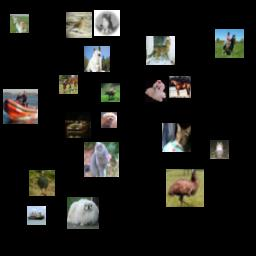bird: (166, 169, 204, 207), (29, 170, 55, 196), (66, 12, 92, 38)
cat: (84, 142, 119, 177), (162, 123, 191, 152), (146, 36, 175, 65), (94, 10, 120, 36)
deer: (10, 14, 29, 33), (101, 83, 120, 102)
dog: (67, 197, 99, 229), (145, 80, 167, 102), (101, 112, 117, 128)
frog: (210, 140, 229, 159)
ship: (3, 89, 38, 124), (65, 112, 91, 138), (27, 206, 46, 225)
